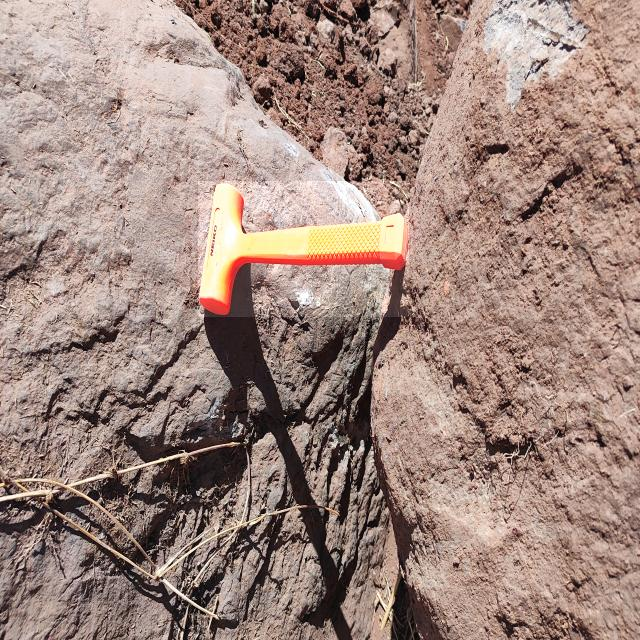Orange_hammer: (198, 181, 409, 317)
